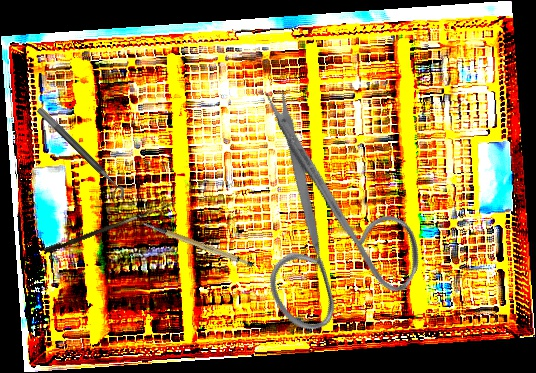Fixation Ring: (28, 105, 130, 207)
Hook Surgical: (43, 196, 177, 256)
Iris Scissors: (173, 82, 463, 365)
Scalpel Handle: (142, 205, 255, 281)
